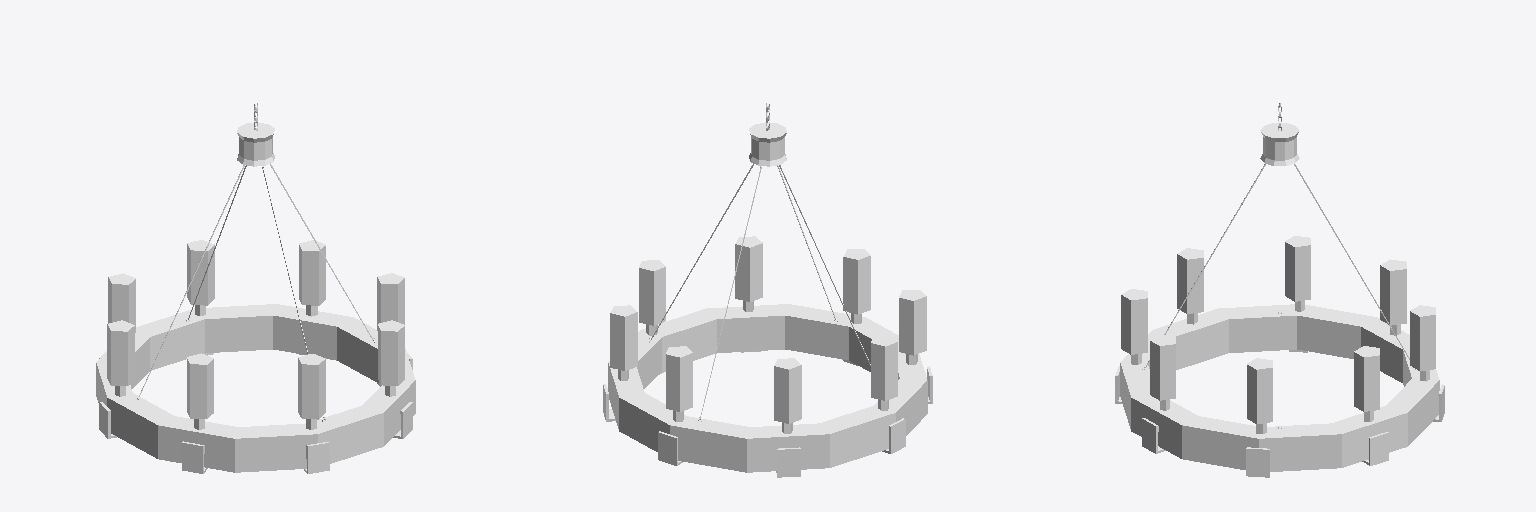
The picture shows the model from 3 angles: view 1: azimuth 30°, elevation 25°; view 2: azimuth 150°, elevation 25°; view 3: azimuth 270°, elevation 25°; orthographic projection.
Parts seen in each view (by area): view 1: aws_Chandelier_01_visualMesh; view 2: aws_Chandelier_01_visualMesh; view 3: aws_Chandelier_01_visualMesh.
Part boxes in pixels (left/top/right/bottom): aws_Chandelier_01_visualMesh: left=96, top=103, right=415, bottom=473; aws_Chandelier_01_visualMesh: left=603, top=103, right=932, bottom=477; aws_Chandelier_01_visualMesh: left=1115, top=103, right=1444, bottom=477.
Bounding box in the file's own units: 0.8955 × 0.9139 × 0.8955.